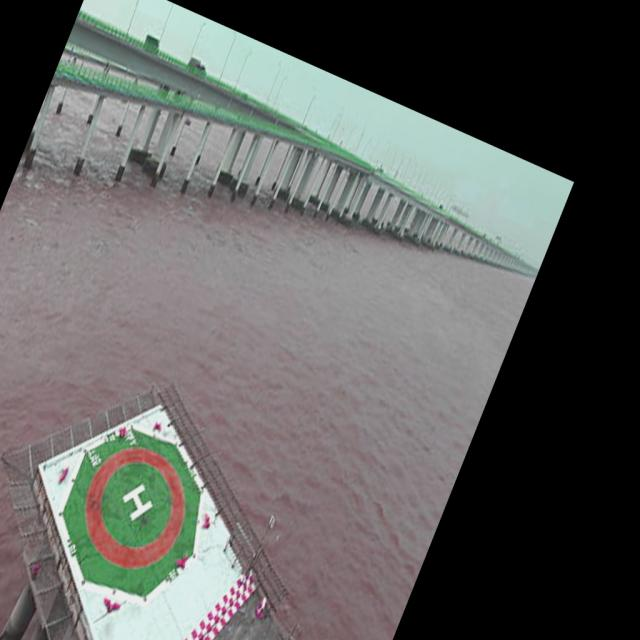helipad: (83, 443, 188, 570)
